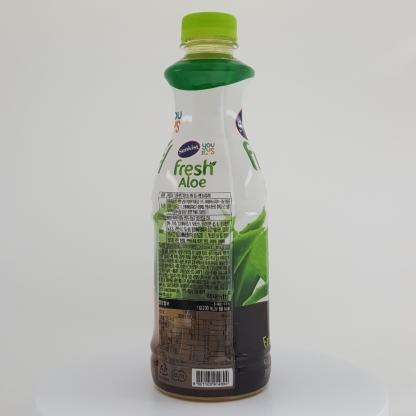----------1L: (150, 12, 271, 402)
